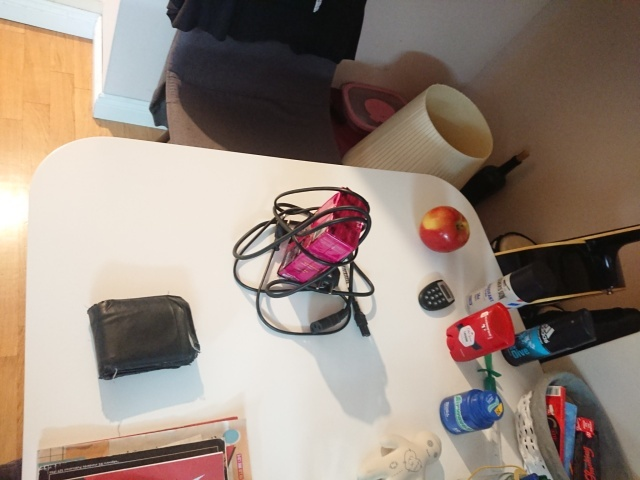Barcaffe Classic Original 225g: (275, 185, 371, 287)
